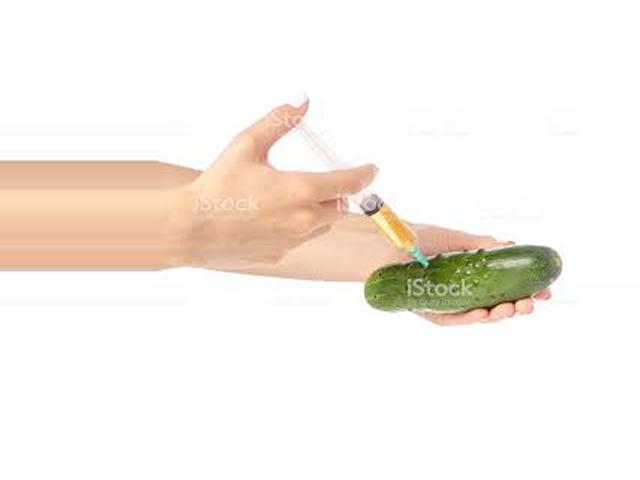cucumber: (364, 246, 564, 309)
